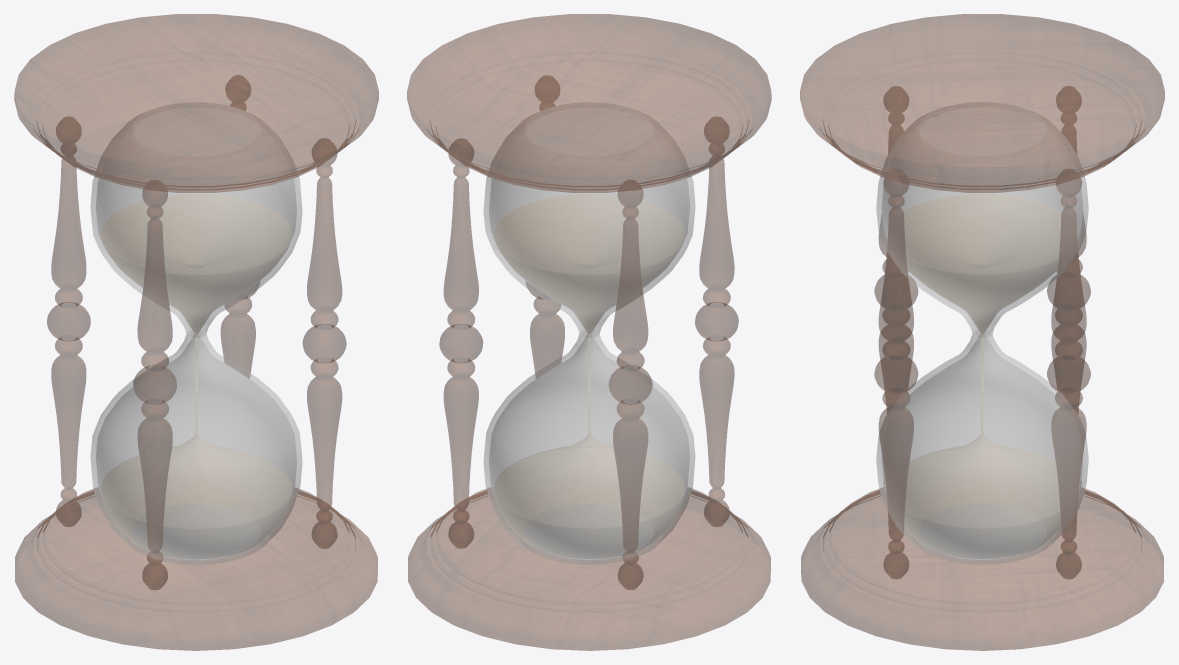
File: HourGlass.glb
3 views of the same model, side by side, from view 1: azimuth 30°, elevation 25°; view 2: azimuth 150°, elevation 25°; view 3: azimuth 270°, elevation 25° (orthographic).
Visible parts, largest first — view 1: Hourglass; view 2: Hourglass; view 3: Hourglass.
Boxes of the visible parts, x1=… form: Hourglass: x1=14, y1=14, x2=378, y2=650; Hourglass: x1=407, y1=14, x2=771, y2=650; Hourglass: x1=800, y1=14, x2=1164, y2=650.
Size of the model in its own units: 50.61 by 74 by 50.61.
Materials: 3 (2 with a texture image).
